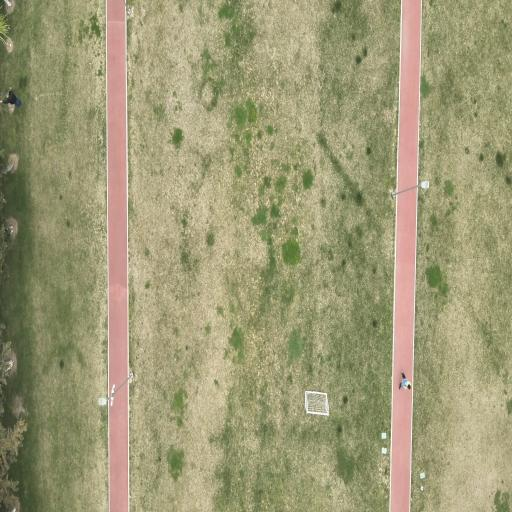person: (3, 91, 22, 107), (399, 372, 411, 389)
